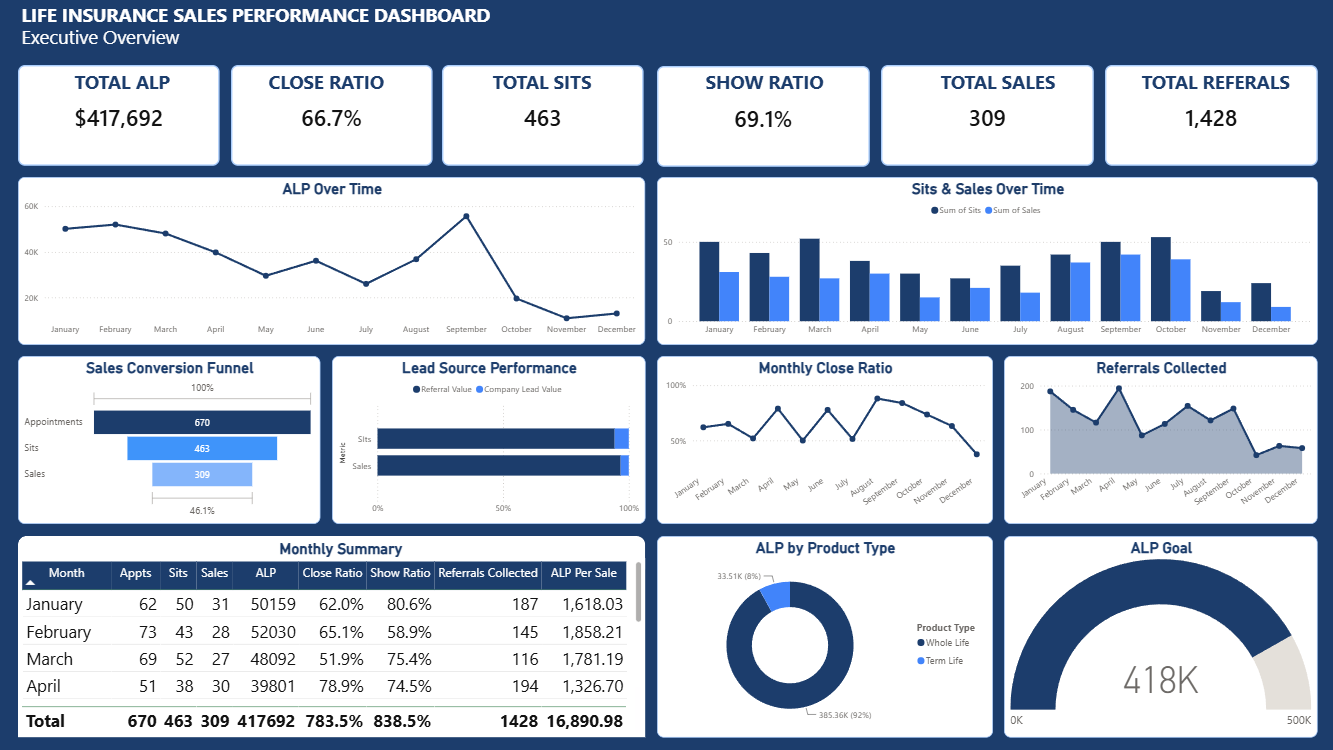

This screenshot's page, from the dashboard's own definition file:
{"tool":"powerbi","page":{"name":"Page 1","canvas":[1920,1080],"ordinal":0},"visuals":[{"type":"shape","box":[32,768,896,48],"z":0},{"type":"textbox","box":[32,0,1152,80],"z":1000},{"type":"textbox","box":[32,32,1504,64],"z":2000},{"type":"cardVisual","fields":{"Data":["PowerBIData.Overall Close Ratio"]},"box":[336,96,288,144],"z":3000},{"type":"cardVisual","fields":{"Data":["PowerBIData.Overall Show Ratio"]},"box":[943.8,97,304,144],"z":4000},{"type":"cardVisual","fields":{"Data":["Sum(PowerBIData.Sales)"]},"box":[1264,96,304,144],"z":5000},{"type":"cardVisual","fields":{"Data":["PowerBIData.Total Referrals"]},"box":[1584,96,304,144],"z":6000},{"type":"cardVisual","fields":{"Data":["Sum(PowerBIData.Sits)"]},"box":[636.7,96,288,144],"z":7000},{"type":"lineChart","title":"ALP Over Time","fields":{"Category":["PowerBIData.Month"],"Y":["Sum(PowerBIData.ALP)"]},"box":[32,256,896,240],"z":8000},{"type":"clusteredColumnChart","title":"Sits & Sales Over Time","fields":{"Category":["PowerBIData.Month"],"Y":["Sum(PowerBIData.Sits)","Sum(PowerBIData.Sales)"]},"box":[944,256,944,240],"z":9000},{"type":"funnel","title":"Sales Conversion Funnel","fields":{"Category":["Funnel Stages.Stage"],"Y":["PowerBIData.Funnel Value"]},"box":[32,512,432,240],"z":10000},{"type":"hundredPercentStackedBarChart","title":"Lead Source Performance","fields":{"Category":["Lead Source Metrics.Metric"],"Y":["PowerBIData.Referral Value","PowerBIData.Company Lead Value"]},"box":[480,512,448,240],"z":11000},{"type":"lineChart","title":"Monthly Close Ratio","fields":{"Category":["PowerBIData.Month"],"Y":["Sum(PowerBIData.Close Ratio)"]},"box":[944,512,480,240],"z":12000},{"type":"lineChart","title":"Referrals Collected","fields":{"Category":["PowerBIData.Month"],"Y":["Sum(PowerBIData.Referrals Collected)"]},"box":[1440,512,448,240],"z":13000},{"type":"tableEx","fields":{"Values":["PowerBIData.Month","Sum(PowerBIData.Appointments Booked)","Sum(PowerBIData.Sits)","Sum(PowerBIData.Sales)","Sum(PowerBIData.ALP)","Sum(PowerBIData.Close Ratio)","Sum(PowerBIData.Show Ratio)","Sum(PowerBIData.Referrals Collected)","Sum(PowerBIData.ALP Per Sale)"]},"box":[32,800,896,256],"z":14000},{"type":"gauge","title":"ALP Goal","fields":{"MaxValue":["PowerBIData.ALP Goal"],"Y":["Sum(PowerBIData.ALP)"]},"box":[1440,768,448,288],"z":15000},{"type":"donutChart","title":"ALP by Product Type","fields":{"Category":["Table (2).Product Type"],"Y":["Sum(Table (2).ALP)"]},"box":[944,768,480,288],"z":16000},{"type":"cardVisual","fields":{"Data":["PowerBIData.Total ALP"]},"box":[32,96,288,144],"z":17000},{"type":"textbox","box":[704,96,264,72],"z":18000},{"type":"textbox","box":[1008,96,216,48],"z":19000},{"type":"textbox","box":[1344,96,176,48],"z":20000},{"type":"textbox","box":[1632,96,264,96],"z":21000},{"type":"textbox","box":[384,96,304,48],"z":22000},{"type":"textbox","box":[24,96,312,72],"z":23000},{"type":"textbox","box":[400,768,304,48],"z":24000}]}

Visuals, with their boxes in screenshot pixels (x1, y1, x2, y2), scaled from the page's 1920x1080 canvas onto the 1333x750 screenshot:
shape: bbox(22, 533, 644, 567)
textbox: bbox(22, 0, 822, 56)
textbox: bbox(22, 22, 1066, 67)
cardVisual - PowerBIData.Overall Close Ratio: bbox(233, 67, 433, 167)
cardVisual - PowerBIData.Overall Show Ratio: bbox(655, 67, 866, 167)
cardVisual - Sum(PowerBIData.Sales): bbox(878, 67, 1089, 167)
cardVisual - PowerBIData.Total Referrals: bbox(1100, 67, 1311, 167)
cardVisual - Sum(PowerBIData.Sits): bbox(442, 67, 642, 167)
"ALP Over Time" lineChart: bbox(22, 178, 644, 344)
"Sits & Sales Over Time" clusteredColumnChart: bbox(655, 178, 1311, 344)
"Sales Conversion Funnel" funnel: bbox(22, 356, 322, 522)
"Lead Source Performance" hundredPercentStackedBarChart: bbox(333, 356, 644, 522)
"Monthly Close Ratio" lineChart: bbox(655, 356, 989, 522)
"Referrals Collected" lineChart: bbox(1000, 356, 1311, 522)
tableEx - PowerBIData.Month x Sum(PowerBIData.Appointments Booked): bbox(22, 556, 644, 733)
"ALP Goal" gauge: bbox(1000, 533, 1311, 733)
"ALP by Product Type" donutChart: bbox(655, 533, 989, 733)
cardVisual - PowerBIData.Total ALP: bbox(22, 67, 222, 167)
textbox: bbox(489, 67, 672, 117)
textbox: bbox(700, 67, 850, 100)
textbox: bbox(933, 67, 1055, 100)
textbox: bbox(1133, 67, 1316, 133)
textbox: bbox(267, 67, 478, 100)
textbox: bbox(17, 67, 233, 117)
textbox: bbox(278, 533, 489, 567)
